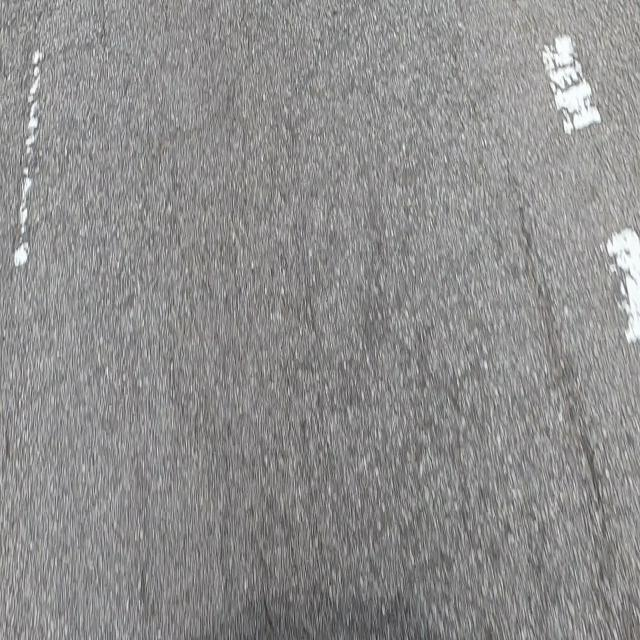Retak-Memanjang: (516, 224, 601, 518)
